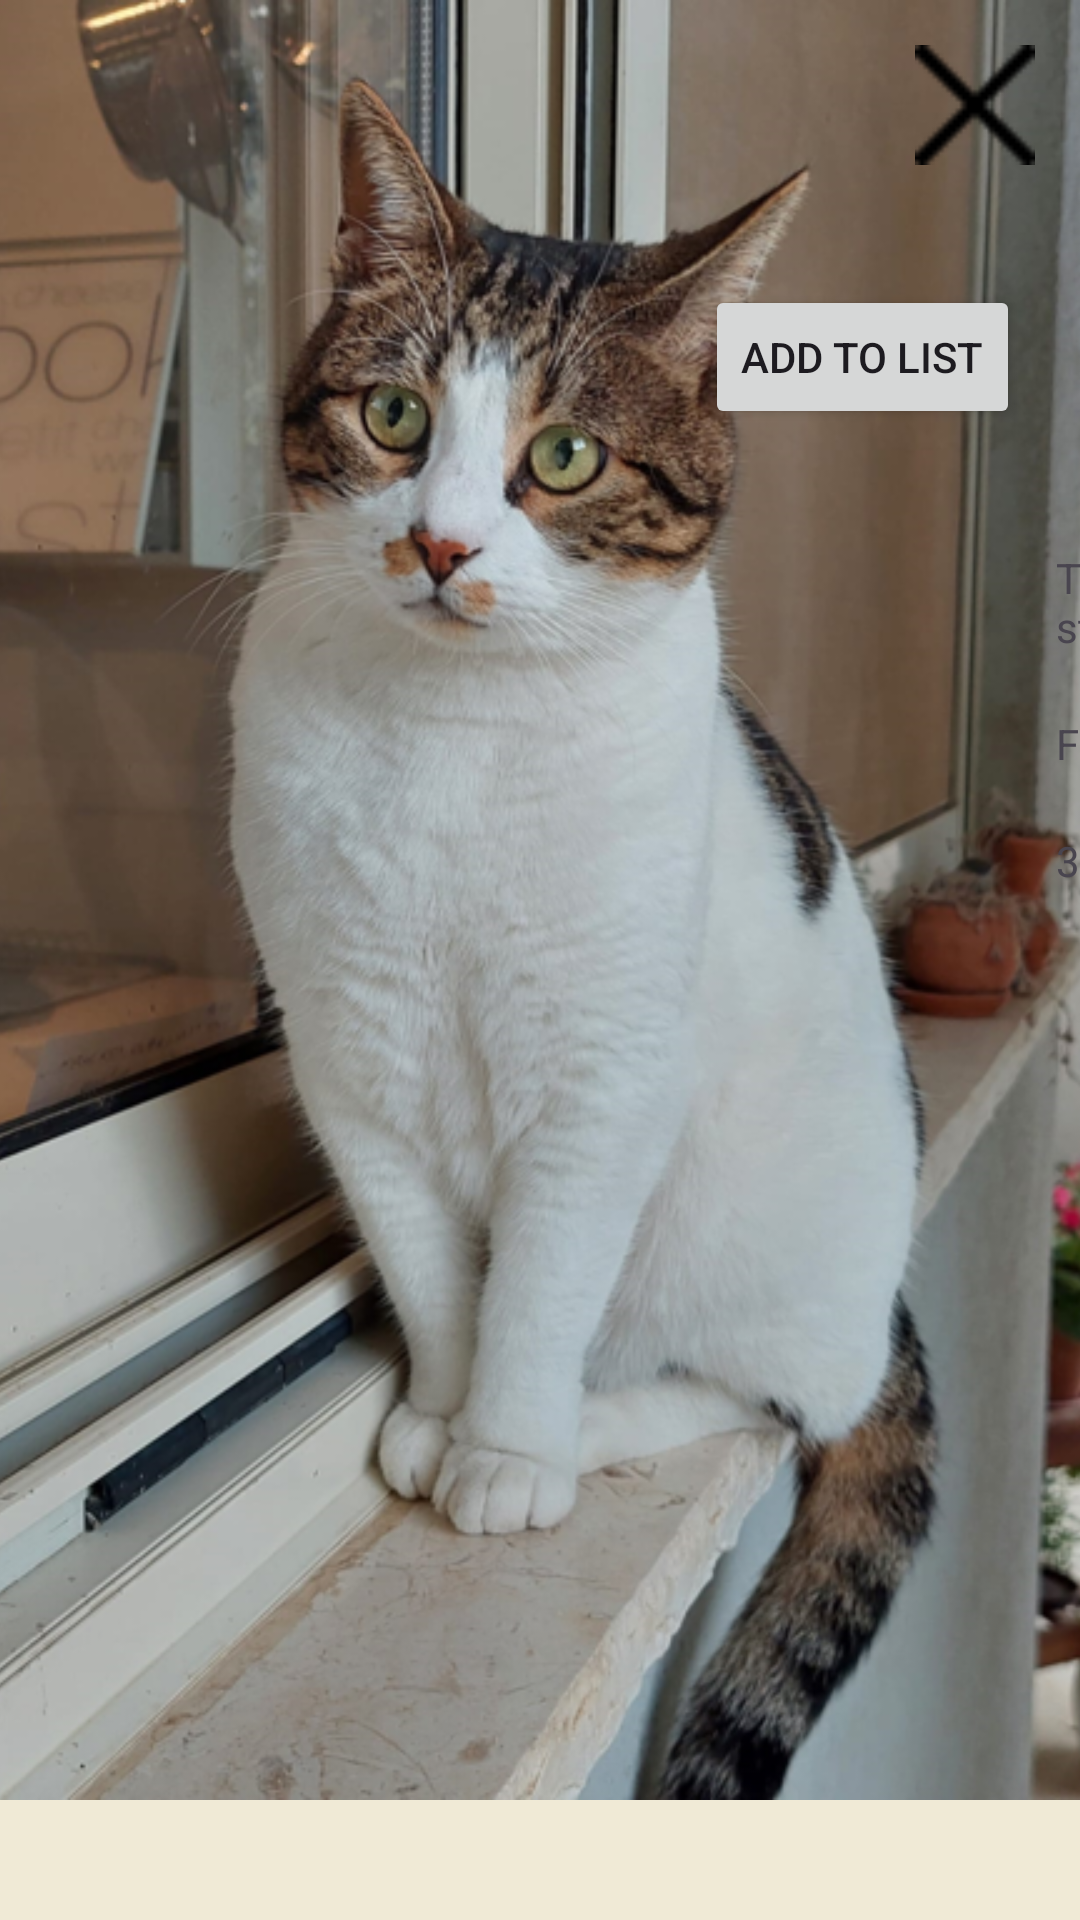

Locate icon controls on the screen. Image size 1080*1920, boxes as (x1, y1, x2, y2).
close: (915, 45, 1035, 165)
